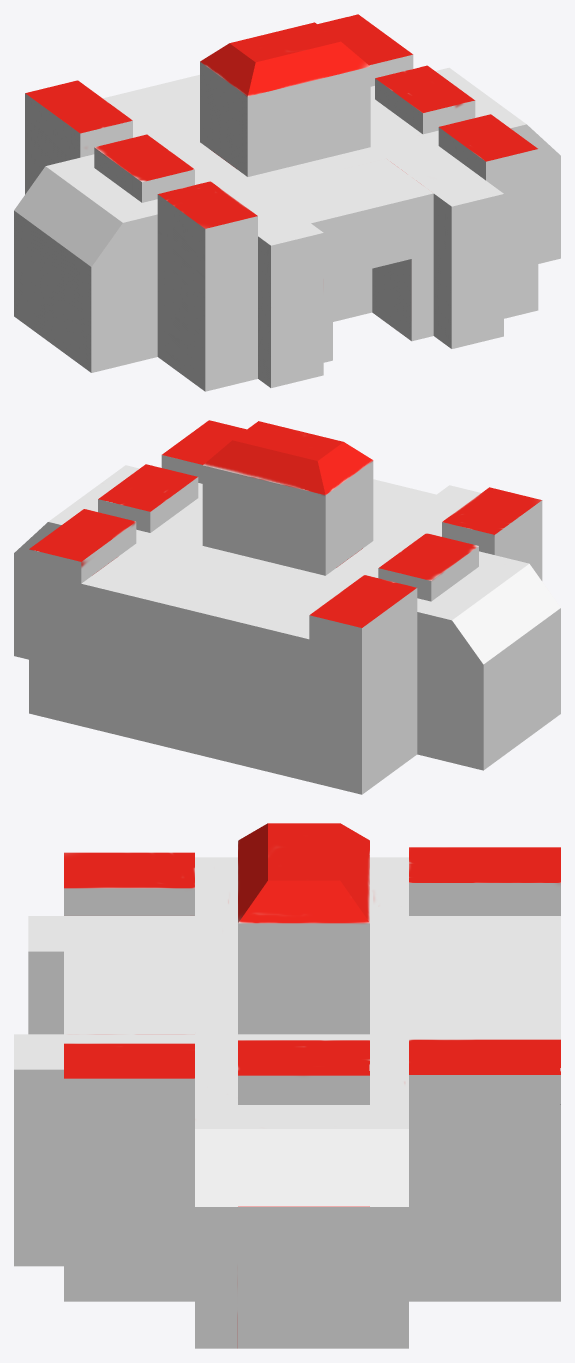
The model's file is castleOutside.obj.
The picture shows the model from 3 angles, top to bottom: view 1: azimuth 30°, elevation 25°; view 2: azimuth 150°, elevation 25°; view 3: azimuth 270°, elevation 25°; orthographic projection. The views are drawn at different scales.
Parts seen in each view (by area): view 1: 立方体_立方体.002; view 2: 立方体_立方体.002; view 3: 立方体_立方体.002.
Part boxes in pixels (x1=…): 立方体_立方体.002: x1=14, y1=14, x2=560, y2=391; 立方体_立方体.002: x1=14, y1=420, x2=560, y2=794; 立方体_立方体.002: x1=14, y1=823, x2=560, y2=1348.
Bounding box in the file's own units: 30.59 × 15.24 × 22.37.
Materials: 1 (1 with a texture image).
